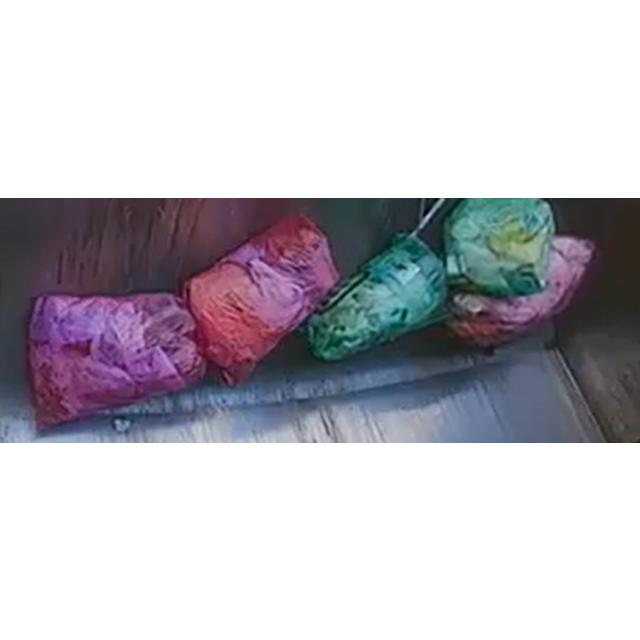general_trashbag: (308, 234, 446, 359), (444, 197, 555, 294)
other_trashbag: (184, 214, 339, 384), (29, 292, 205, 427), (449, 236, 594, 346)
